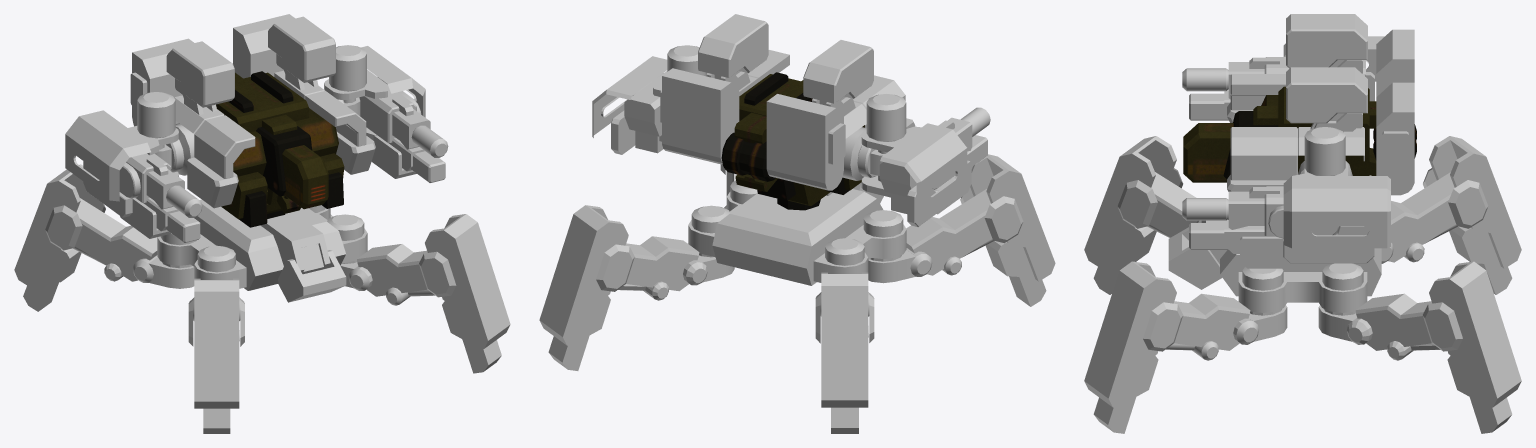
File: robot.fbx
3 views of the same model, side by side, from view 1: azimuth 30°, elevation 25°; view 2: azimuth 150°, elevation 25°; view 3: azimuth 270°, elevation 25° (orthographic). The views are drawn at different scales.
Parts seen in each view (by area): view 1: Object_2, Object_3, Object_4; view 2: Object_2, Object_3, Object_4; view 3: Object_2, Object_3, Object_4.
Part boxes in pixels (<box>): Object_2: <box>14,16,510,433</box>; Object_3: <box>128,14,387,302</box>; Object_4: <box>216,71,344,227</box>; Object_2: <box>539,14,1055,433</box>; Object_3: <box>653,45,921,285</box>; Object_4: <box>721,72,864,210</box>; Object_2: <box>1084,14,1521,433</box>; Object_3: <box>1168,29,1414,296</box>; Object_4: <box>1183,86,1416,219</box>.
Bounding box in the file's own units: 3453 × 3001 × 3828.
